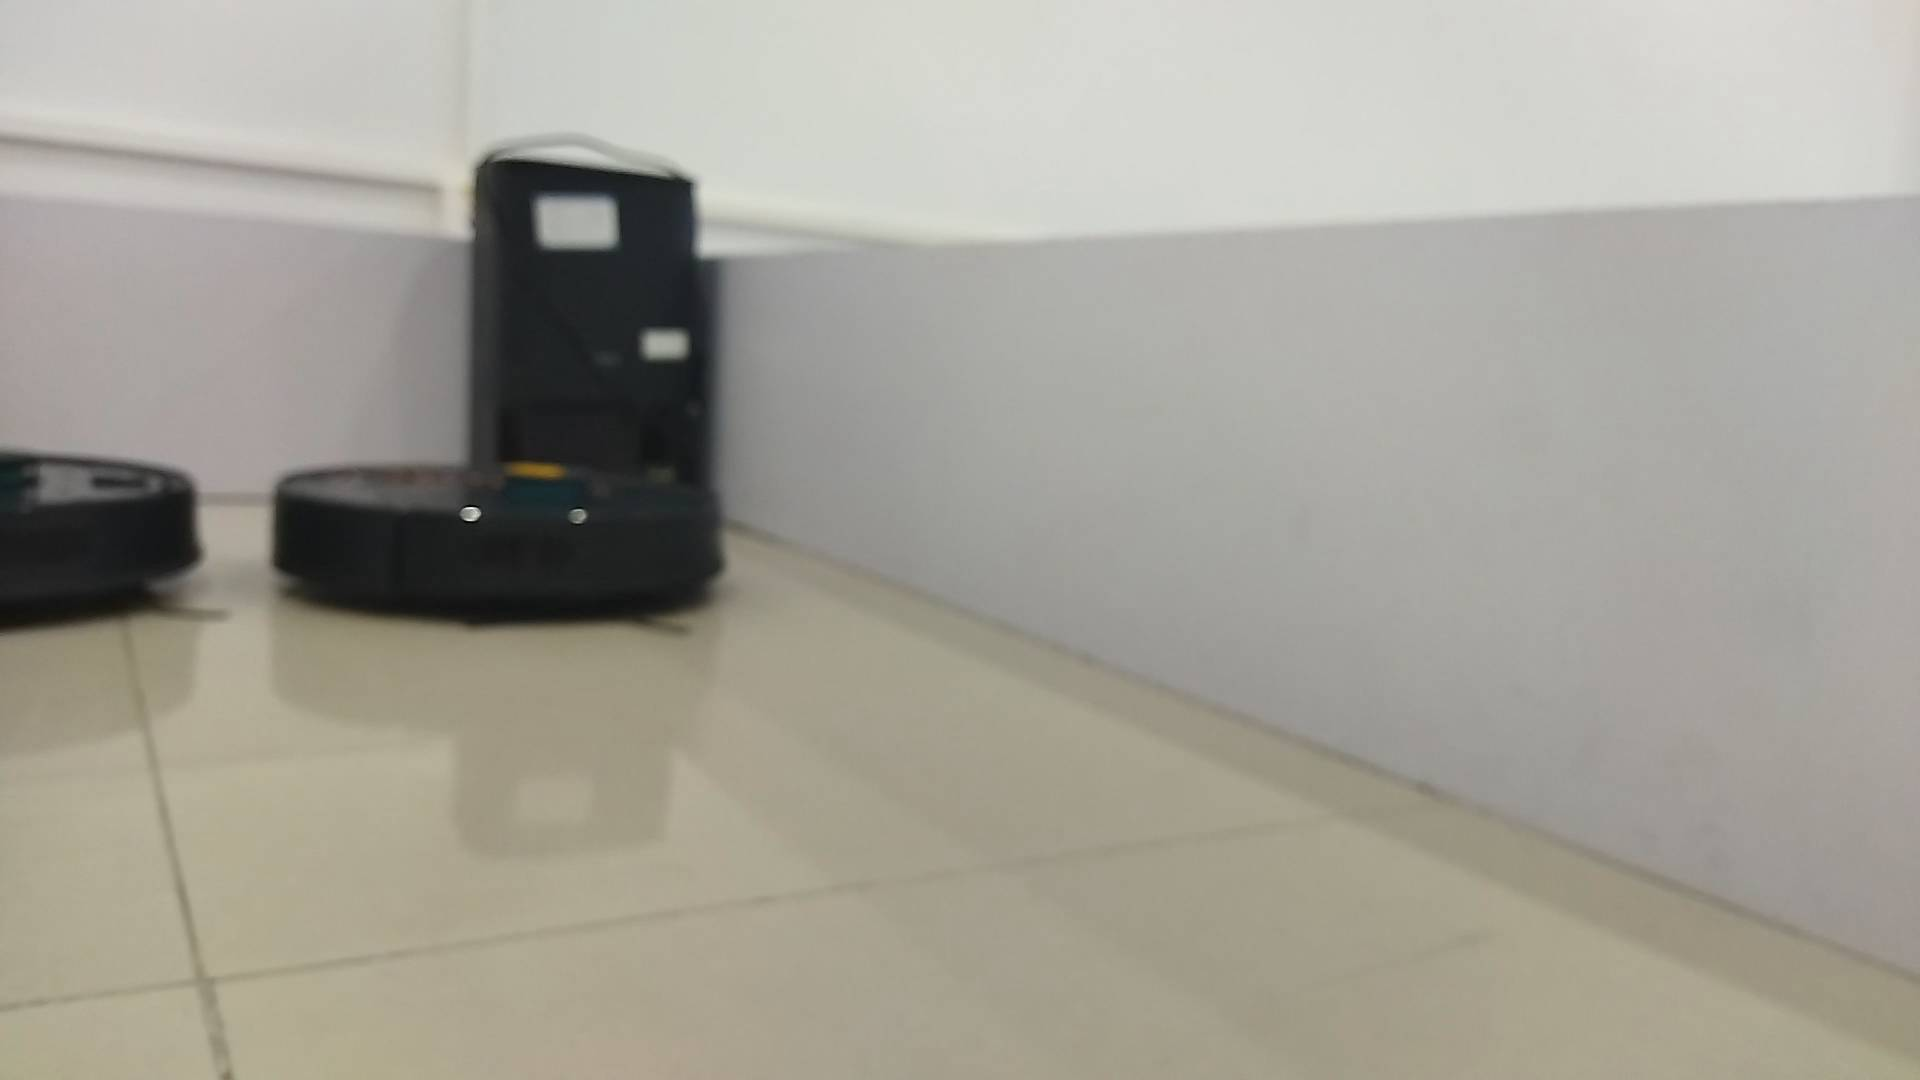dust collecting barrel: (473, 156, 712, 473)
